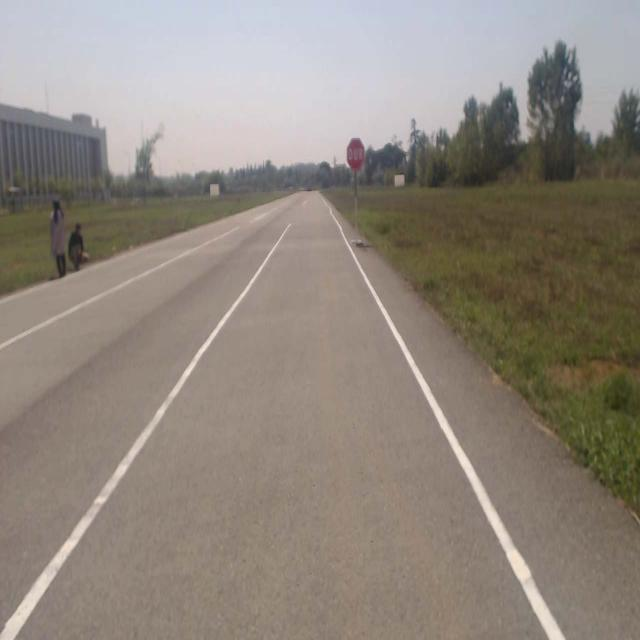dur: (347, 138, 365, 170)
